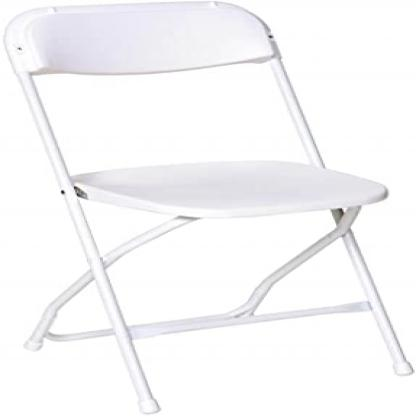chair: (0, 4, 415, 415)
